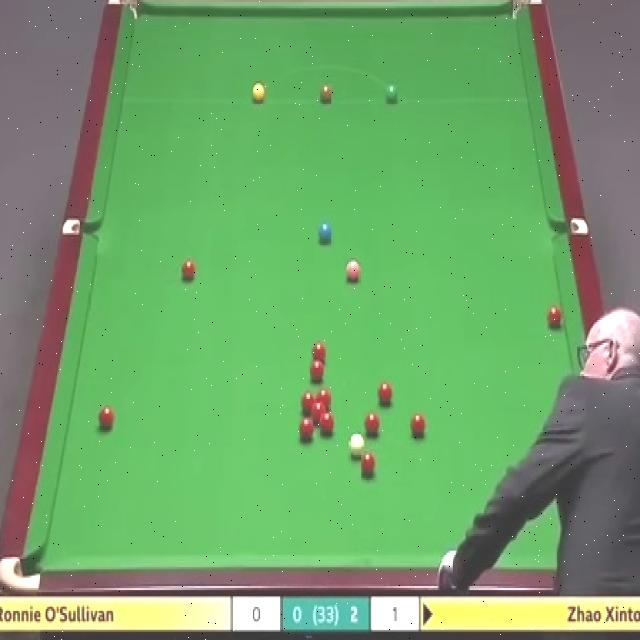blue-ball: (317, 221, 332, 245)
brown-ball: (320, 83, 332, 103)
green-ball: (384, 82, 398, 104)
pink-ball: (343, 260, 363, 289)
red-ball: (359, 449, 378, 477), (376, 381, 394, 406), (363, 412, 380, 438), (97, 405, 114, 430), (180, 258, 198, 281), (410, 414, 426, 439), (300, 394, 316, 416), (310, 360, 325, 383), (315, 388, 332, 408), (548, 306, 562, 330), (299, 418, 314, 440), (319, 414, 334, 436), (310, 346, 326, 364), (312, 403, 326, 421)
white-ball: (347, 435, 365, 461)
yellow-ball: (252, 84, 265, 104)
